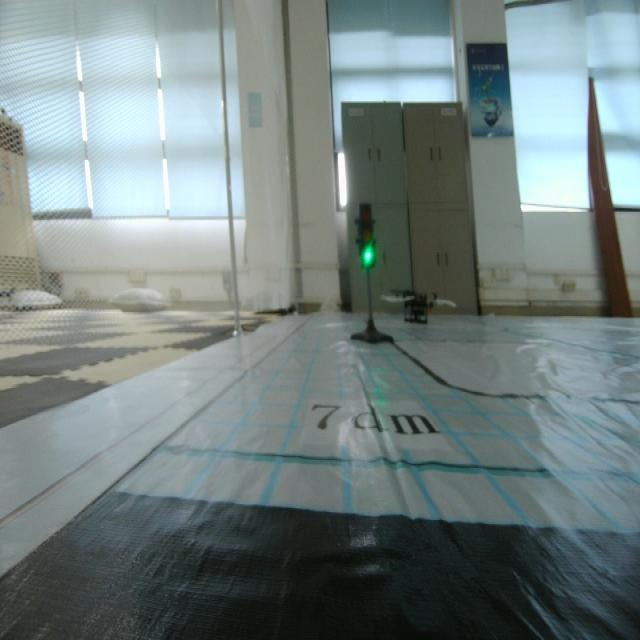green: (350, 202, 382, 270)
